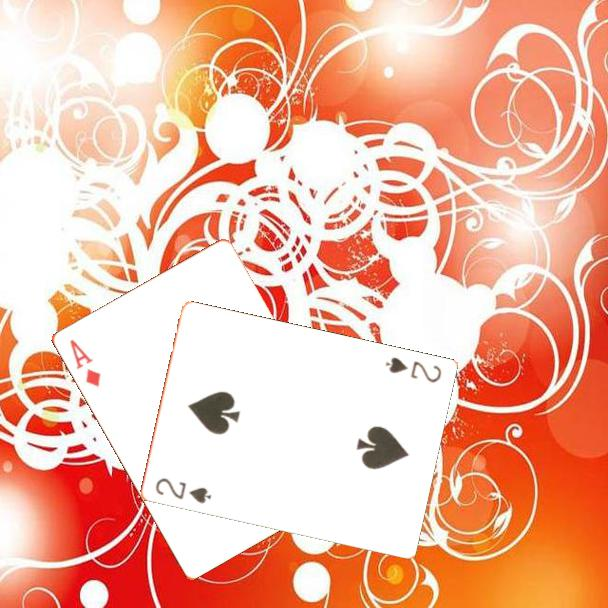d01: (66, 336, 103, 390)
s02: (152, 474, 214, 507), (381, 354, 444, 386)
